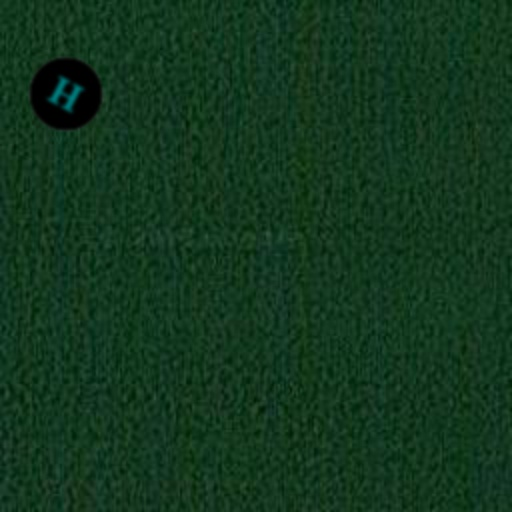circle: (16, 44, 116, 144)
